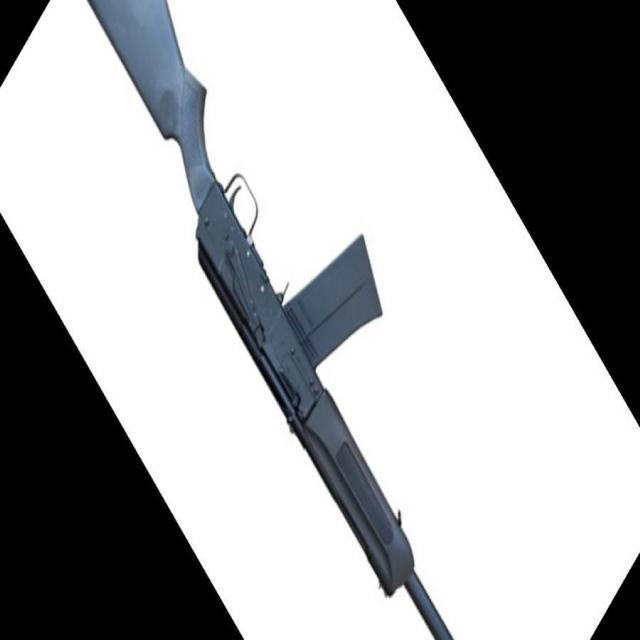weapon: (87, 0, 456, 640)
